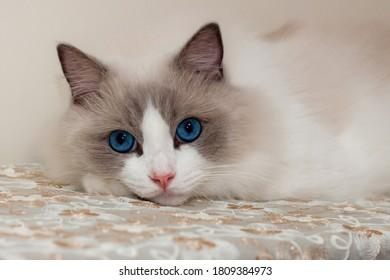ragdoll: (54, 14, 244, 226)
